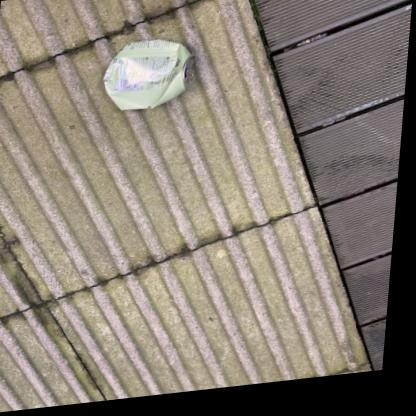trash: (104, 40, 190, 109)
